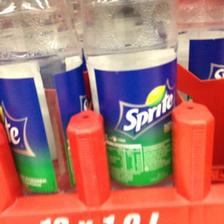Soda: (76, 0, 178, 188), (0, 0, 87, 192)
